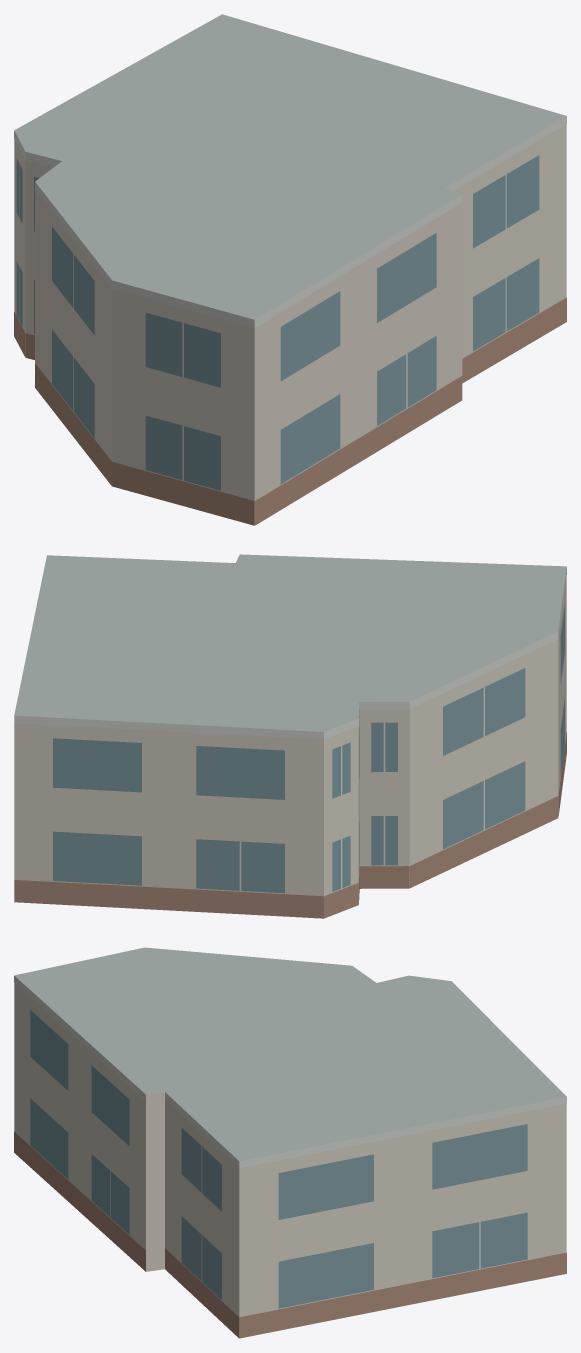
The model's file is survey-upis-32962107.glb.
The picture shows the model from 3 angles, top to bottom: view 1: azimuth 30°, elevation 25°; view 2: azimuth 150°, elevation 25°; view 3: azimuth 270°, elevation 25°; orthographic projection. The views are drawn at different scales.
Visible parts, largest first — view 1: survey-upis-32962107.tmp; view 2: survey-upis-32962107.tmp; view 3: survey-upis-32962107.tmp.
Part boxes in pixels (bbox=[...]): survey-upis-32962107.tmp: bbox=[14, 14, 566, 525]; survey-upis-32962107.tmp: bbox=[14, 554, 566, 918]; survey-upis-32962107.tmp: bbox=[14, 947, 566, 1338].
Size of the model in its own units: 15.81 by 6.1 by 17.26.
